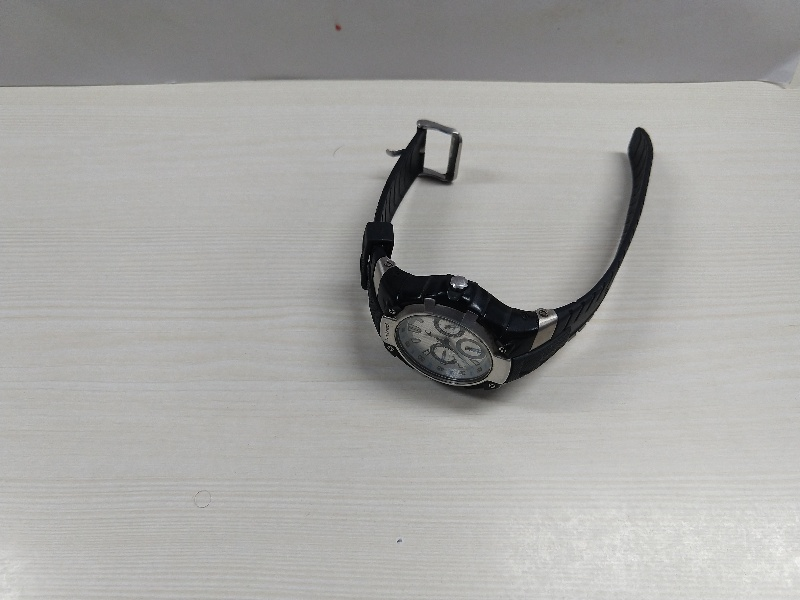watch: (347, 113, 672, 395)
